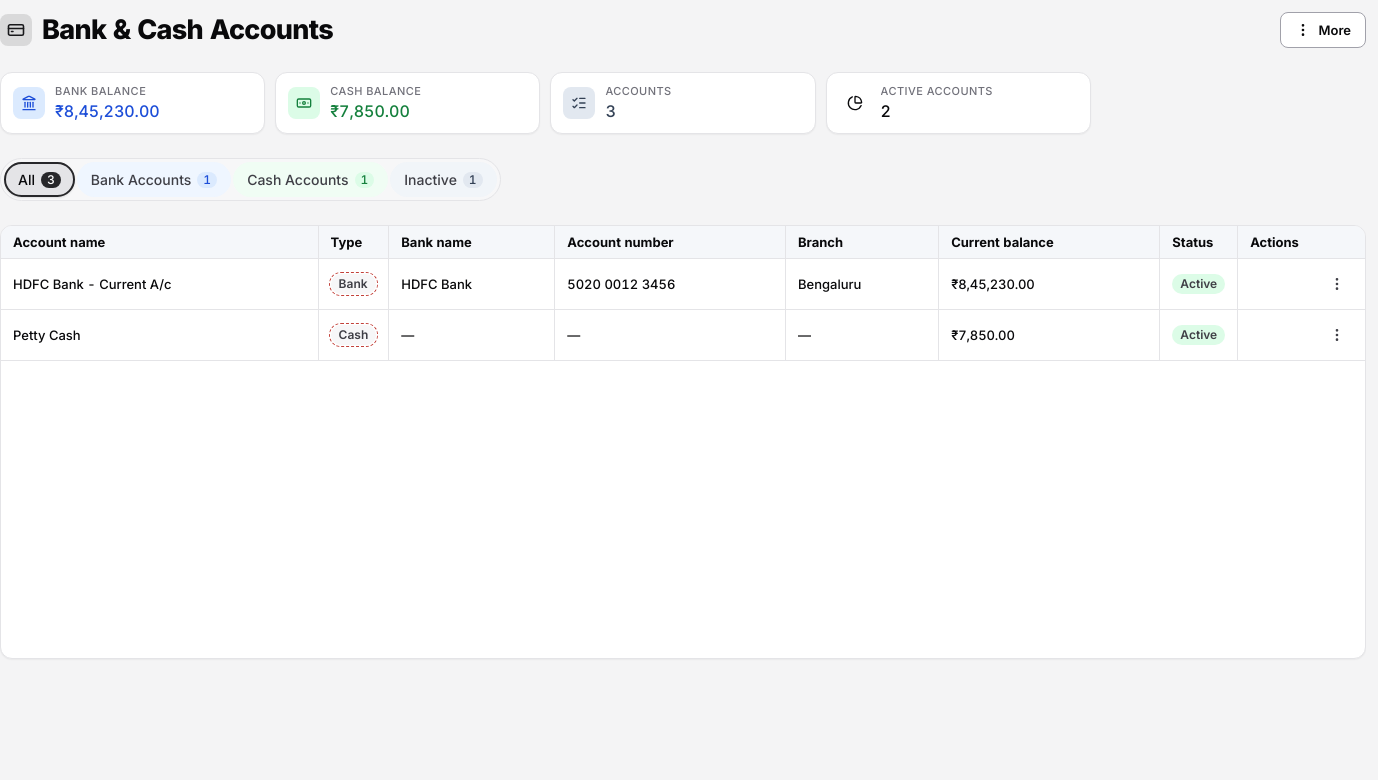
it: the screen › splits bank from cash on the tabs
What coordinates should you click on to do the following:
click the tab "Cash Accounts 1"
I would click on:
 (311, 180)
Its box is [233, 162, 388, 197].
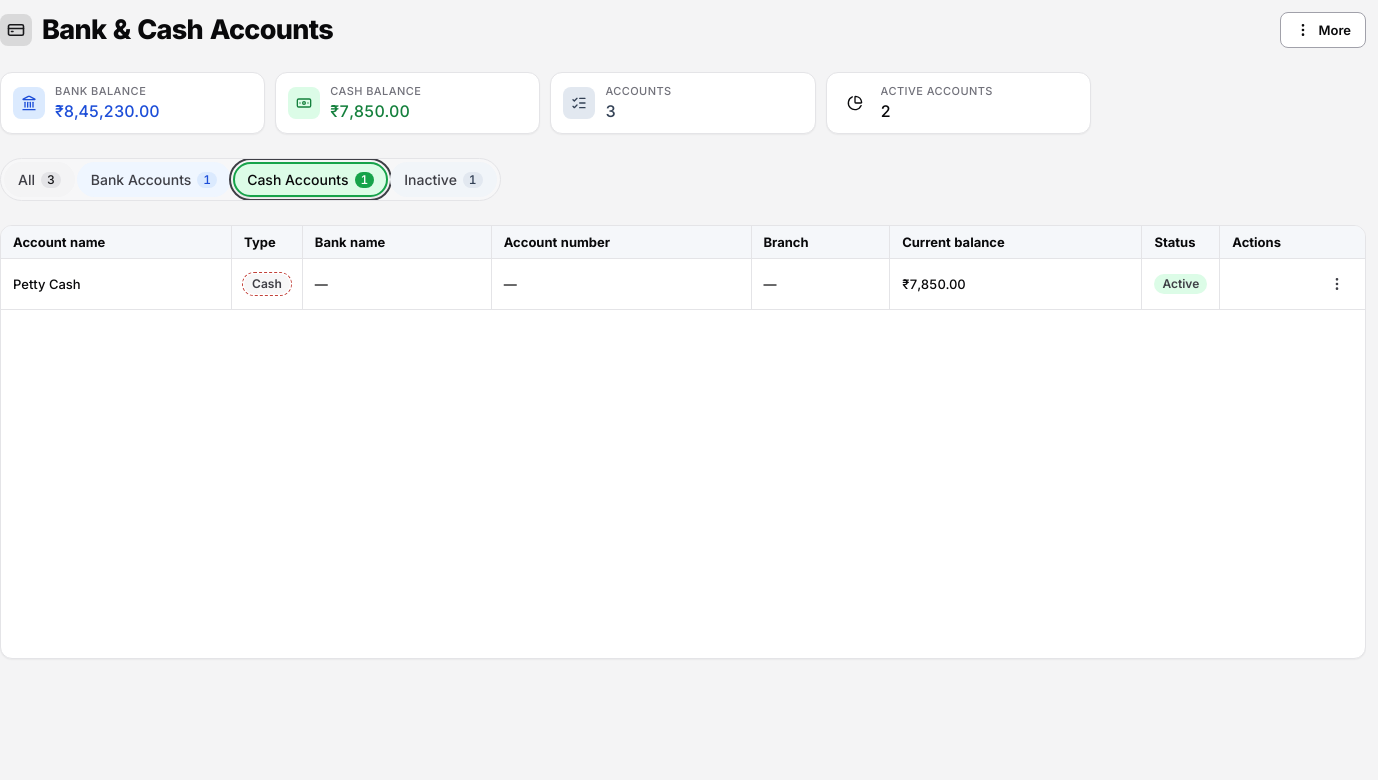
Expected: the text "Petty Cash" is shown, [1, 259, 231, 310]
Result: the text "HDFC Bank - Current A/c" is gone
